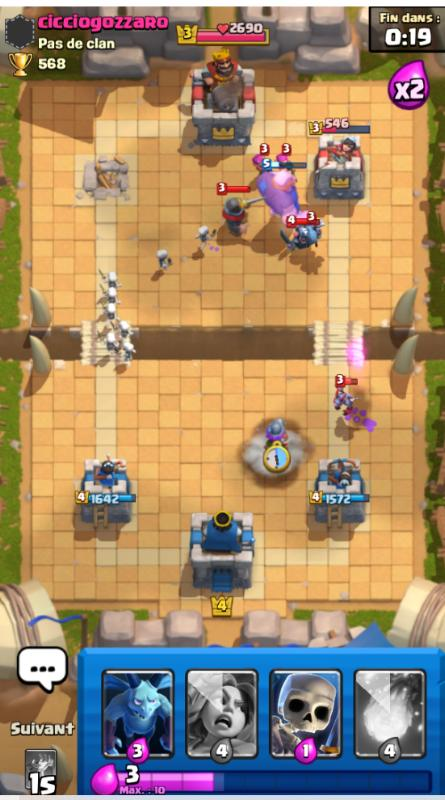archere: (282, 144, 307, 185), (244, 150, 278, 172)
chevalier: (214, 199, 262, 236)
gargouille: (325, 380, 370, 421), (300, 219, 329, 251)
geant: (260, 172, 310, 217)
mini_PEKKA: (272, 224, 309, 252)
mousquetaire: (254, 417, 293, 452)
squelette: (94, 265, 128, 287), (187, 224, 216, 249), (142, 250, 176, 269), (120, 337, 143, 363), (114, 317, 144, 336), (100, 290, 128, 308), (94, 330, 119, 348), (99, 304, 116, 320)
